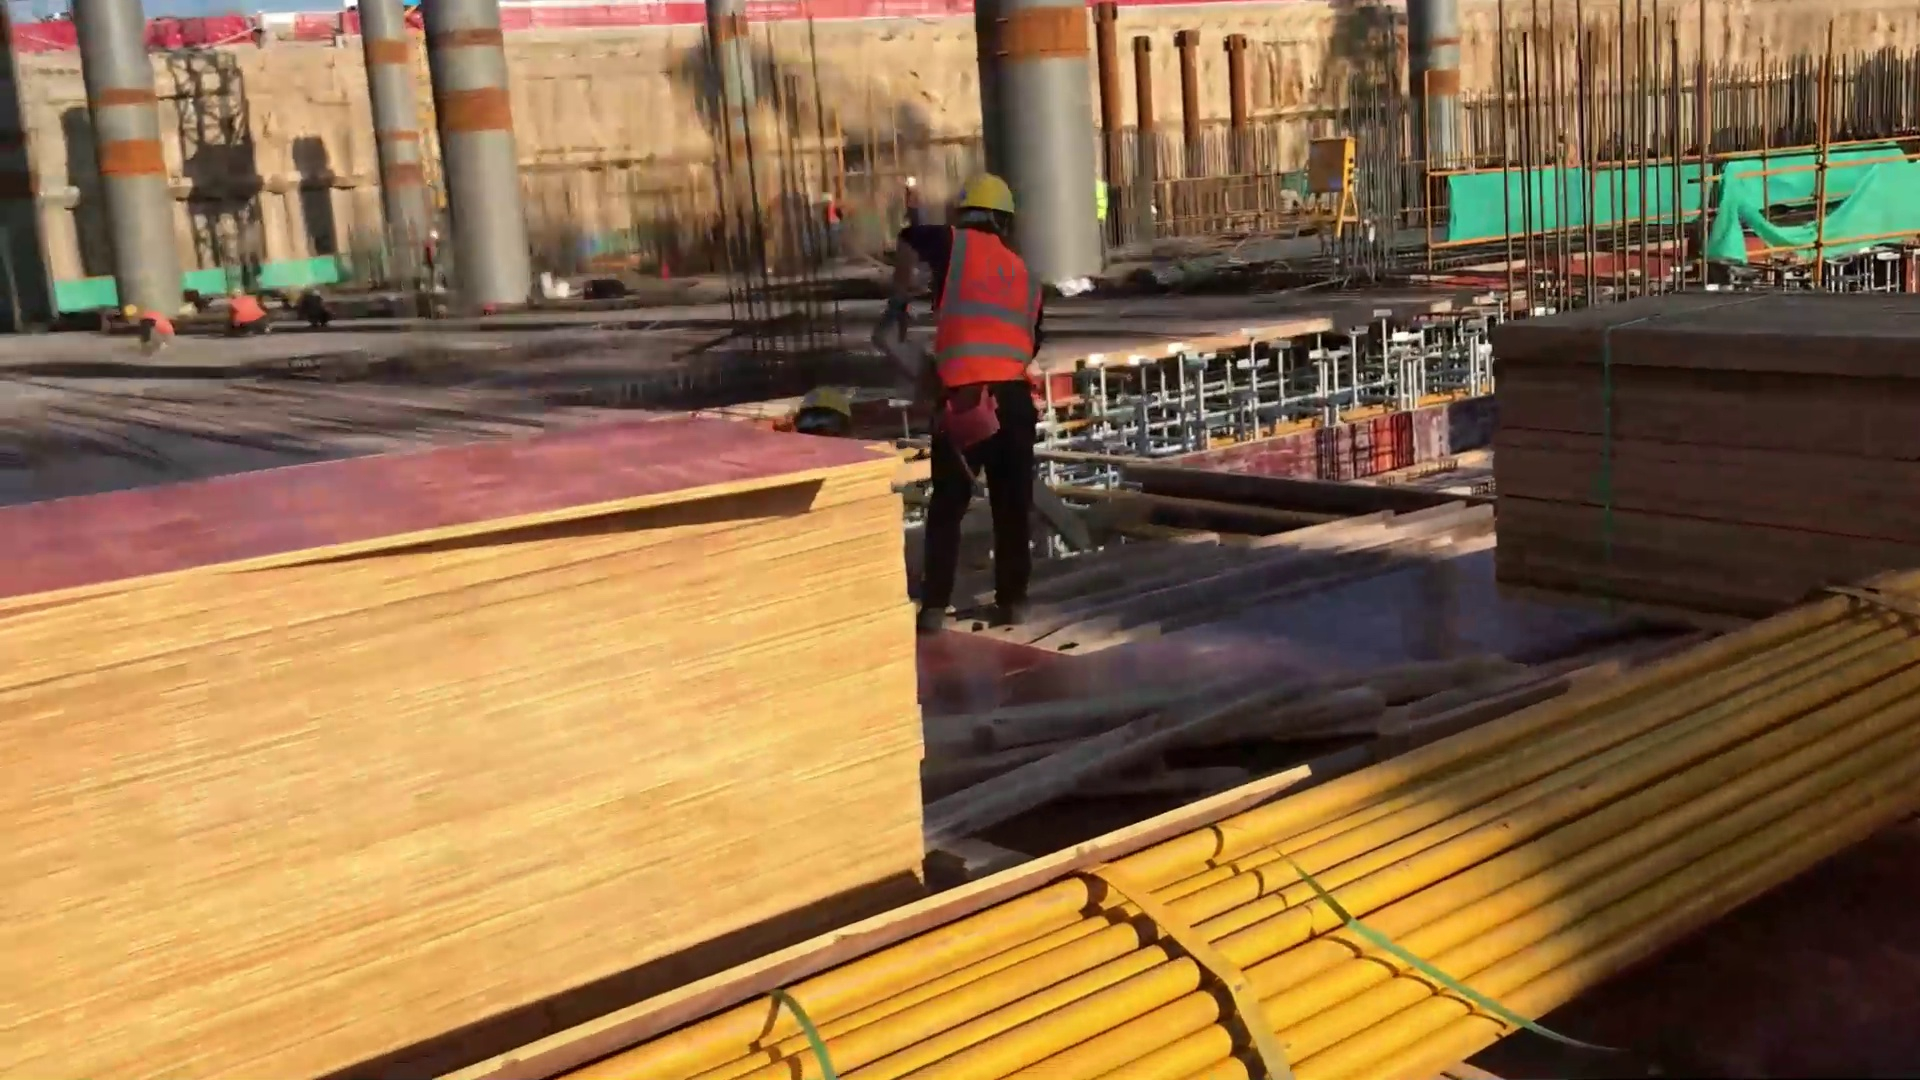helmet: (943, 164, 1042, 229)
person: (897, 162, 1052, 624), (213, 289, 297, 339), (129, 303, 177, 349)
vest: (924, 210, 1047, 389), (223, 291, 274, 324), (138, 297, 173, 330)
